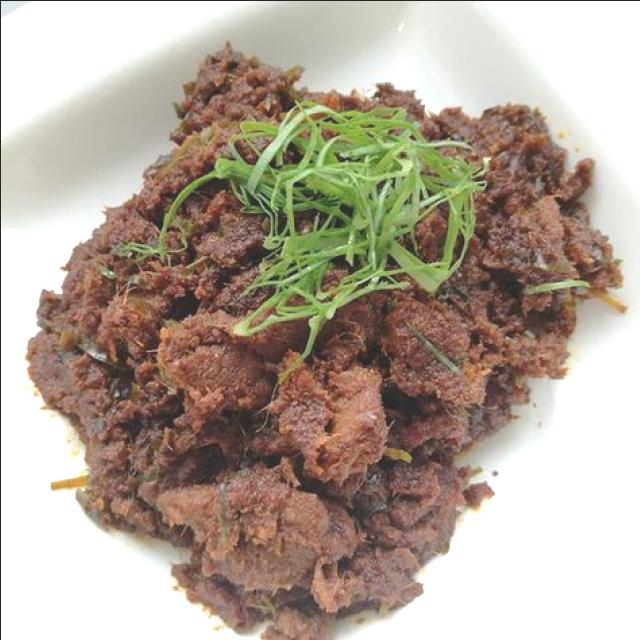rendang: (22, 41, 624, 640)
